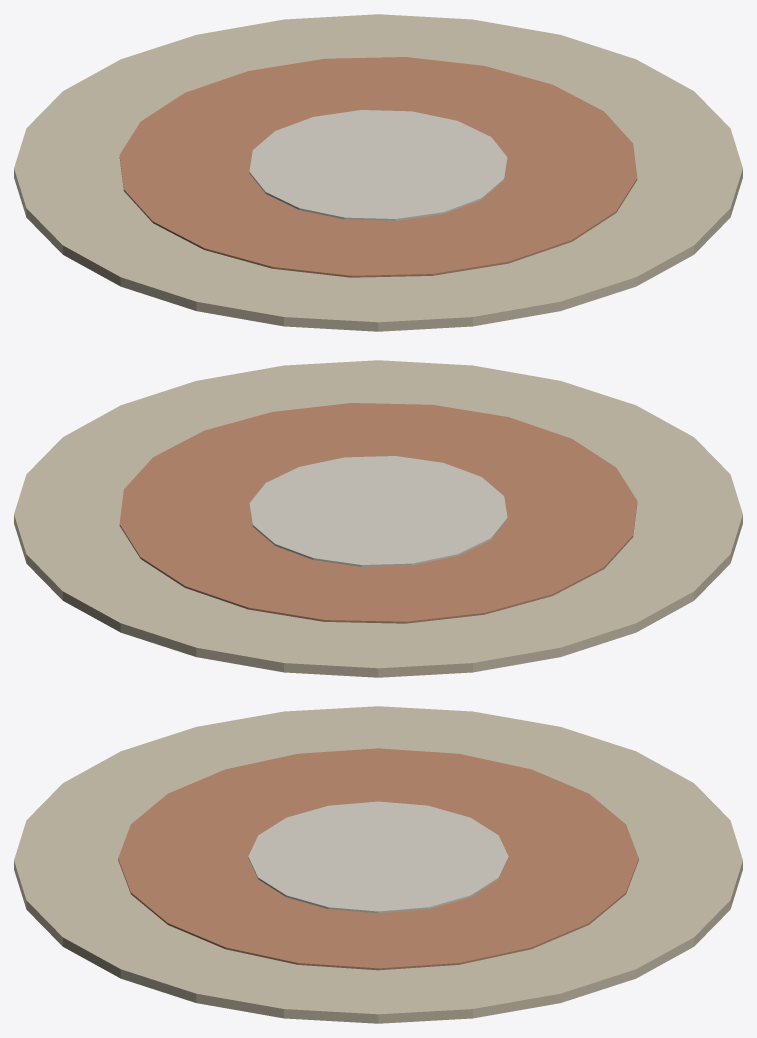
The model's file is piso_tapete_redondo2.glb.
3 renders of one model, top to bottom at view 1: azimuth 30°, elevation 25°; view 2: azimuth 150°, elevation 25°; view 3: azimuth 270°, elevation 25°, orthographic.
Parts seen in each view (by area): view 1: PISO_TAPETE_REDONDO2_v01; view 2: PISO_TAPETE_REDONDO2_v01; view 3: PISO_TAPETE_REDONDO2_v01.
Part boxes in pixels (x1,y1,x2,y2): PISO_TAPETE_REDONDO2_v01: (14, 14, 742, 331); PISO_TAPETE_REDONDO2_v01: (14, 360, 742, 677); PISO_TAPETE_REDONDO2_v01: (14, 706, 742, 1023).
Bounding box in the file's own units: 1.4 × 0.028 × 1.4.
